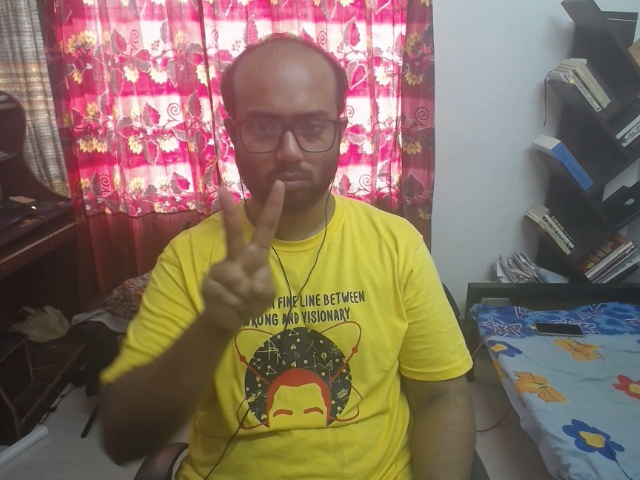two: (192, 168, 329, 323)
